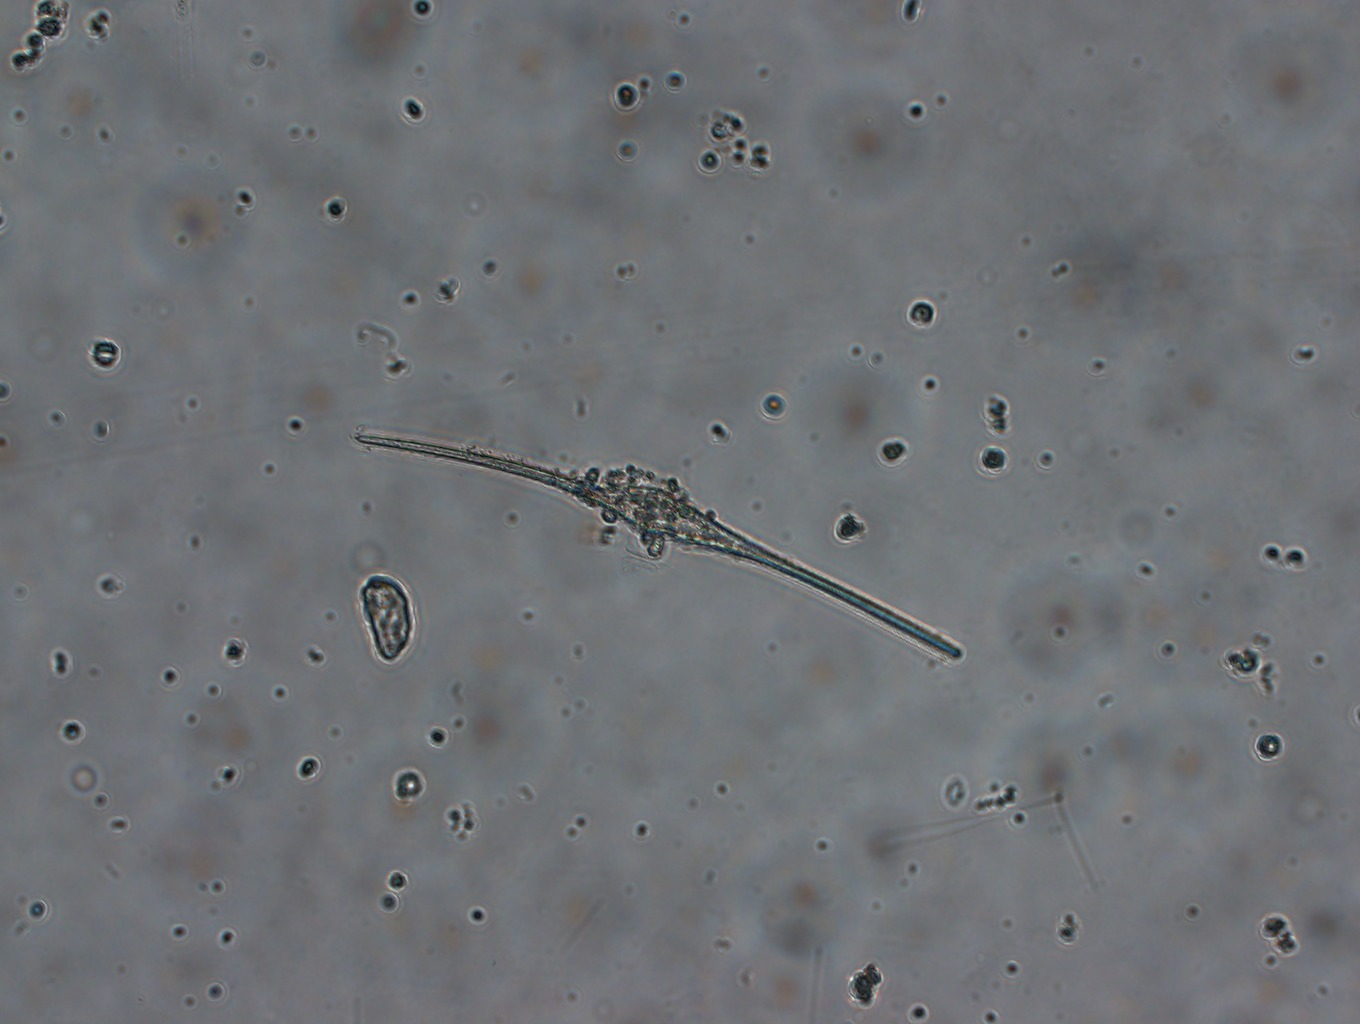ceratium fusus: (346, 414, 972, 674)
